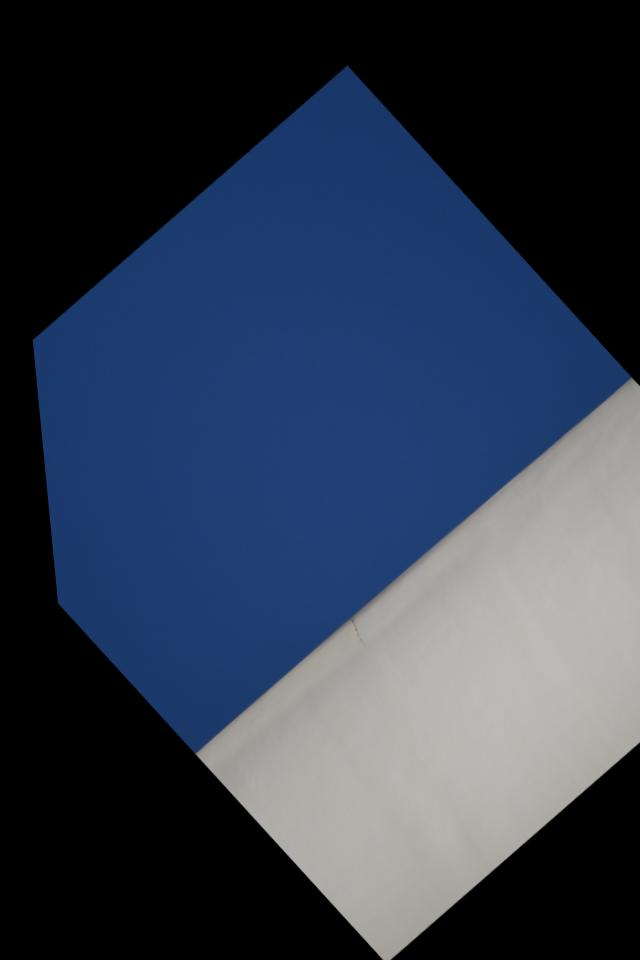damage: (329, 607, 362, 640)
